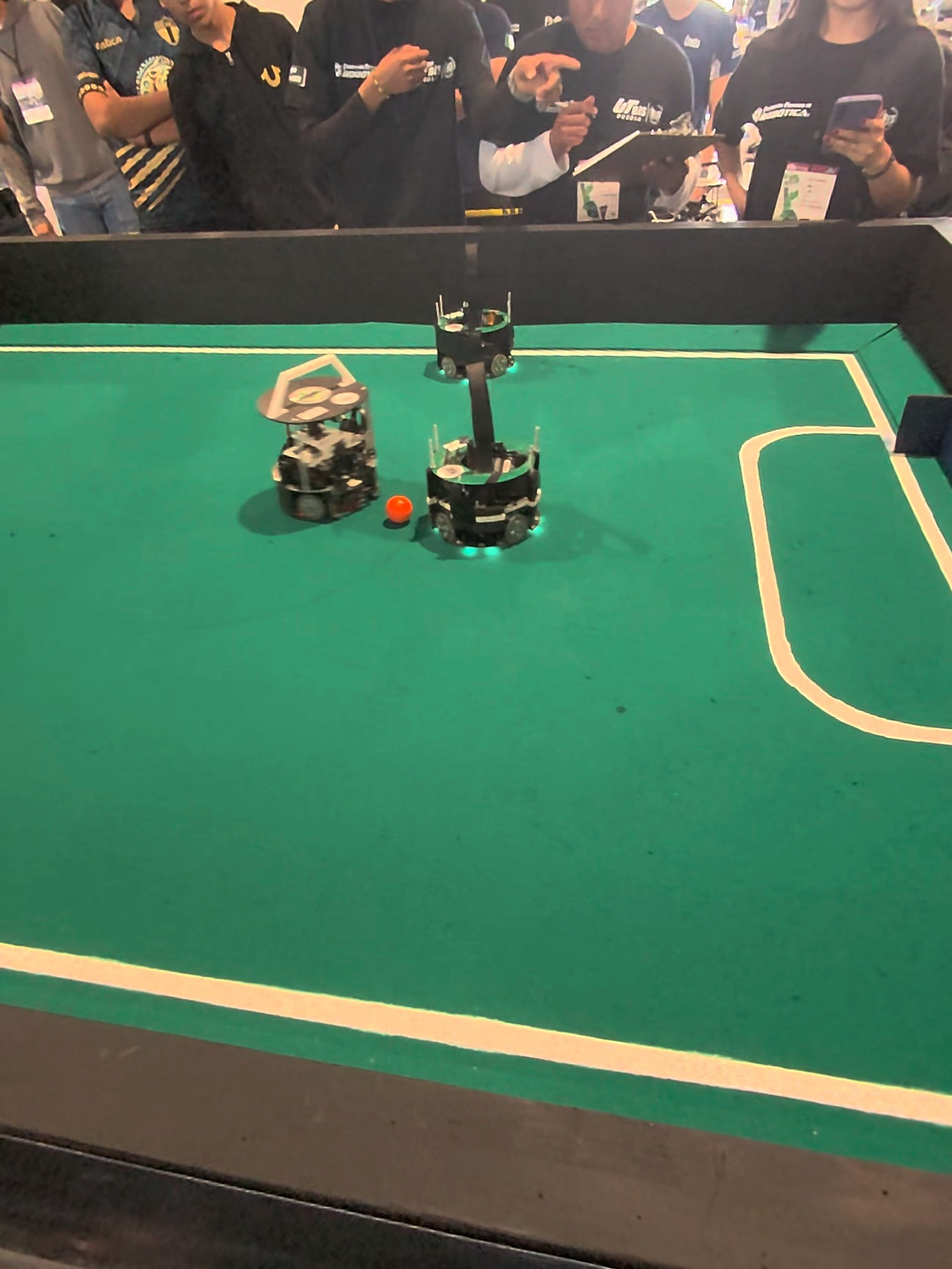Robot: (425, 385, 560, 559), (268, 359, 381, 528), (418, 236, 523, 389)
pelota: (385, 498, 420, 524)
